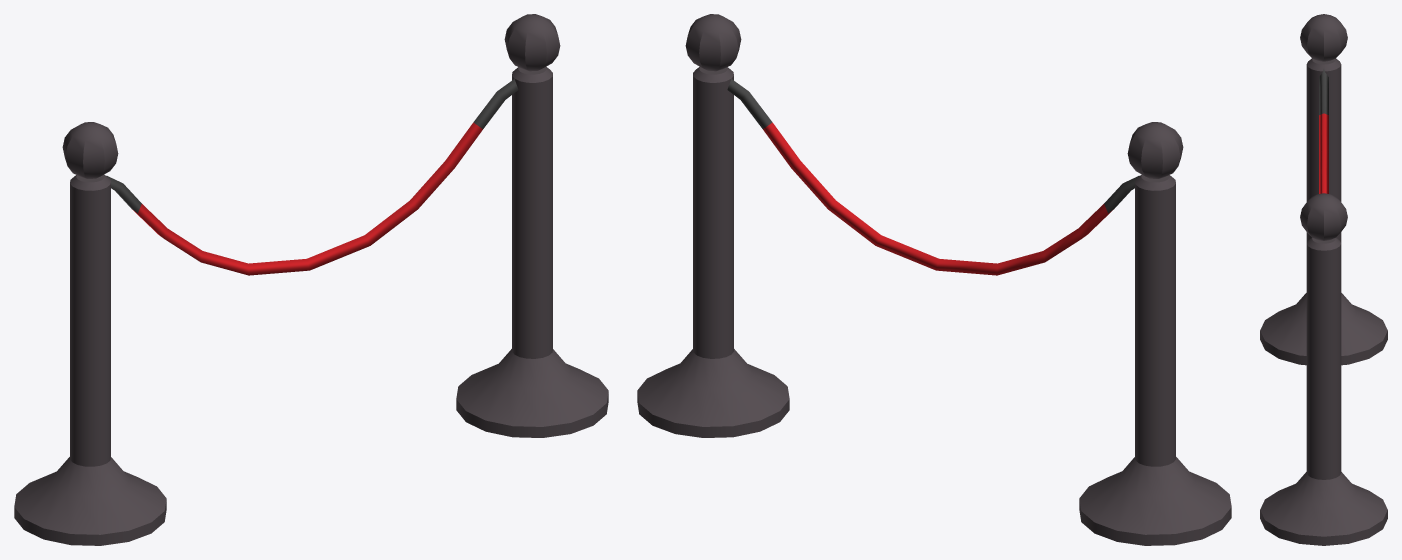
3 renders of one model, left to right at view 1: azimuth 30°, elevation 25°; view 2: azimuth 150°, elevation 25°; view 3: azimuth 270°, elevation 25°, orthographic. The views are drawn at different scales.
Visible parts, largest first — view 1: Sphere.012, BezierCurve.005; view 2: Sphere.012, BezierCurve.005; view 3: Sphere.012, BezierCurve.005.
Boxes of the visible parts, left/top/right/bottom form: Sphere.012: left=14, top=14, right=608, bottom=545; BezierCurve.005: left=106, top=79, right=518, bottom=275; Sphere.012: left=637, top=14, right=1231, bottom=545; BezierCurve.005: left=727, top=79, right=1139, bottom=275; Sphere.012: left=1260, top=14, right=1387, bottom=545; BezierCurve.005: left=1319, top=69, right=1328, bottom=193.
Bounding box in the file's own units: 753 × 174 × 487.
